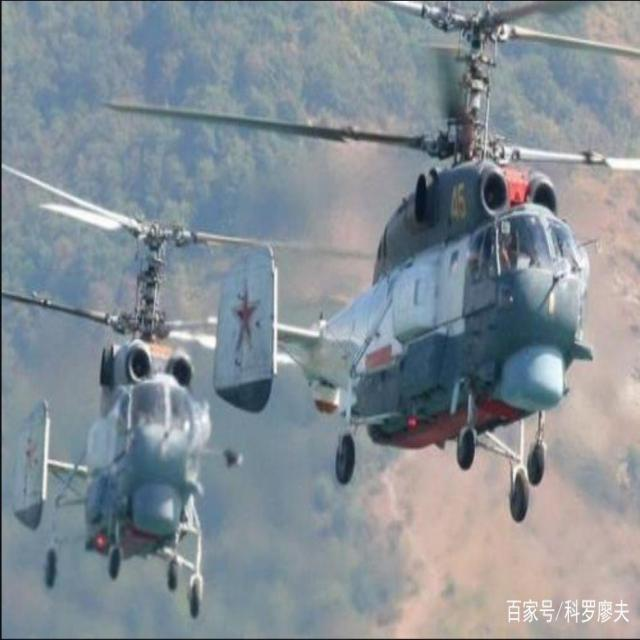MIL_HELO: (129, 0, 640, 521), (0, 135, 377, 620)
